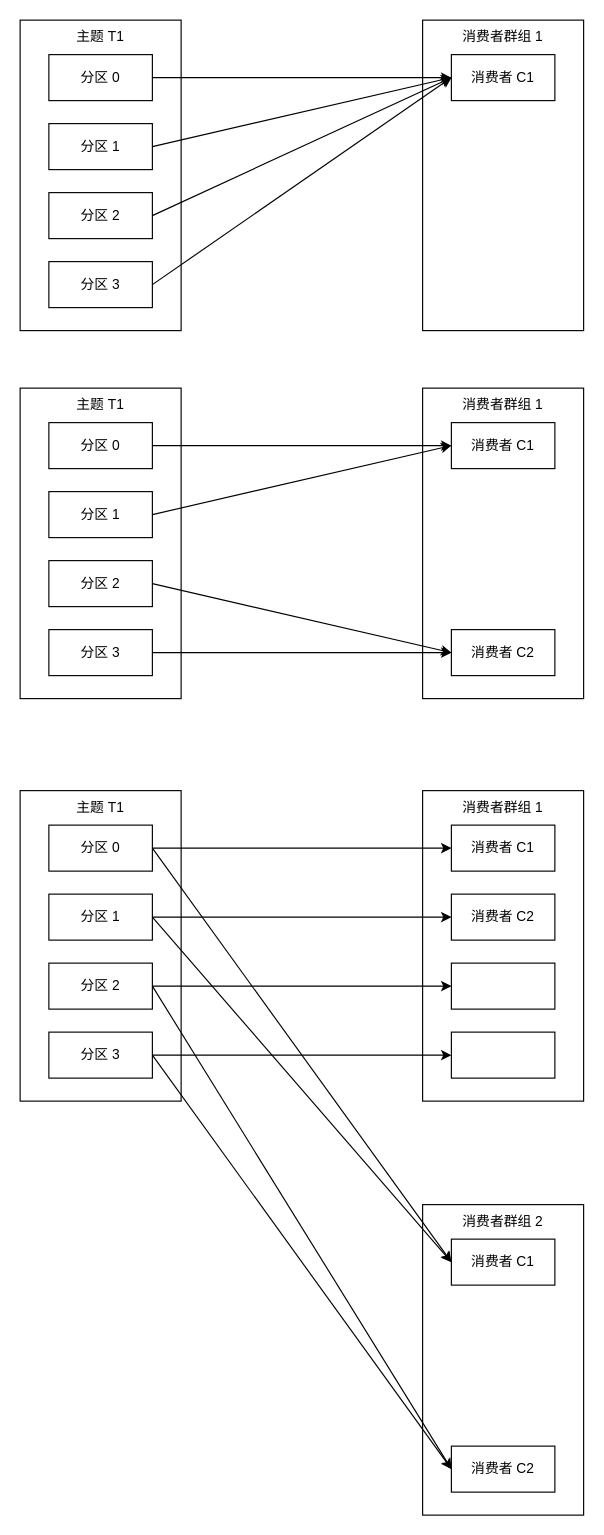
The diagram is 604 pixels wide and 1535 high, and some of its shapes have lost their labels. Each missing label, with the centre of its shape:
消费者 C3: the point at 502,985
消费者 C4: the point at 502,1054
